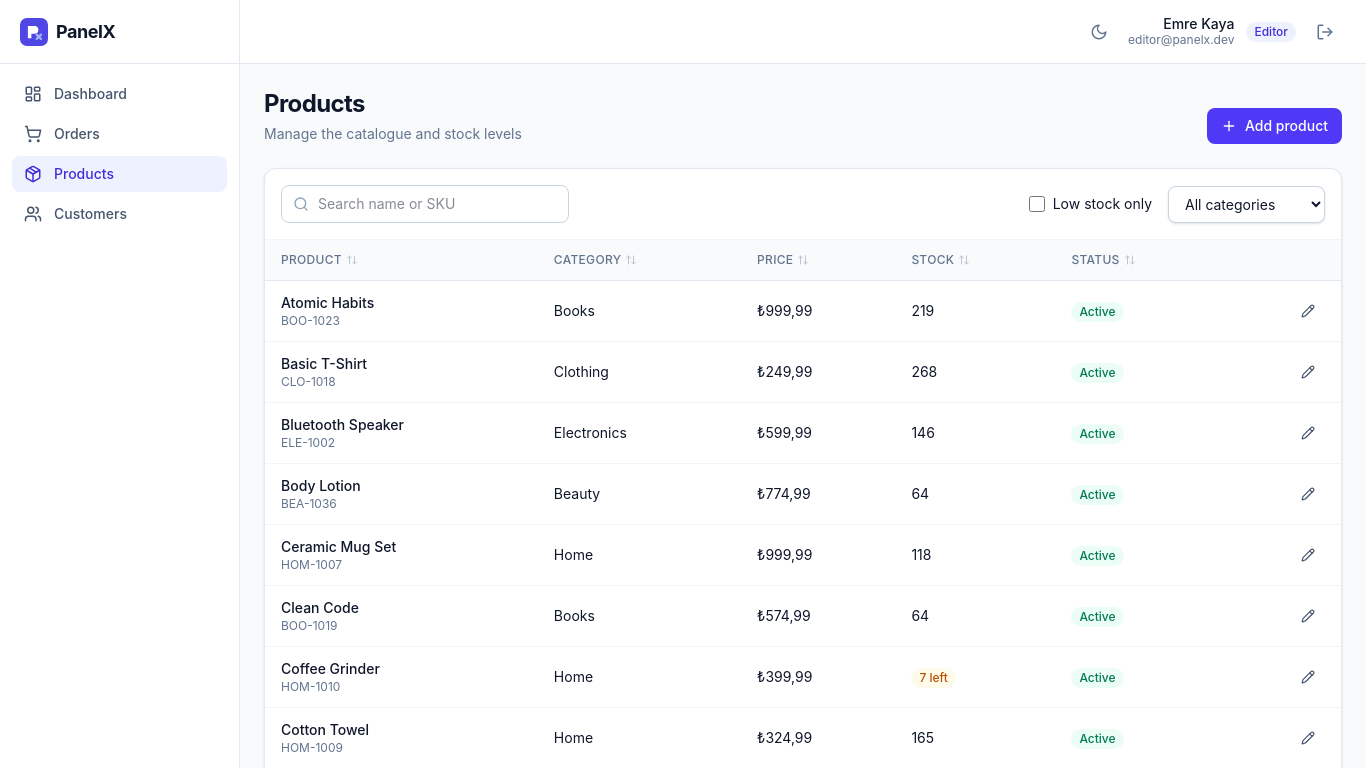
Scenario: products › validates the form and creates a product
The image size is (1366, 768).
Later steps or results of the test are not shown.
Click the button "Add product" at (1274, 126), box [1207,108,1342,144]
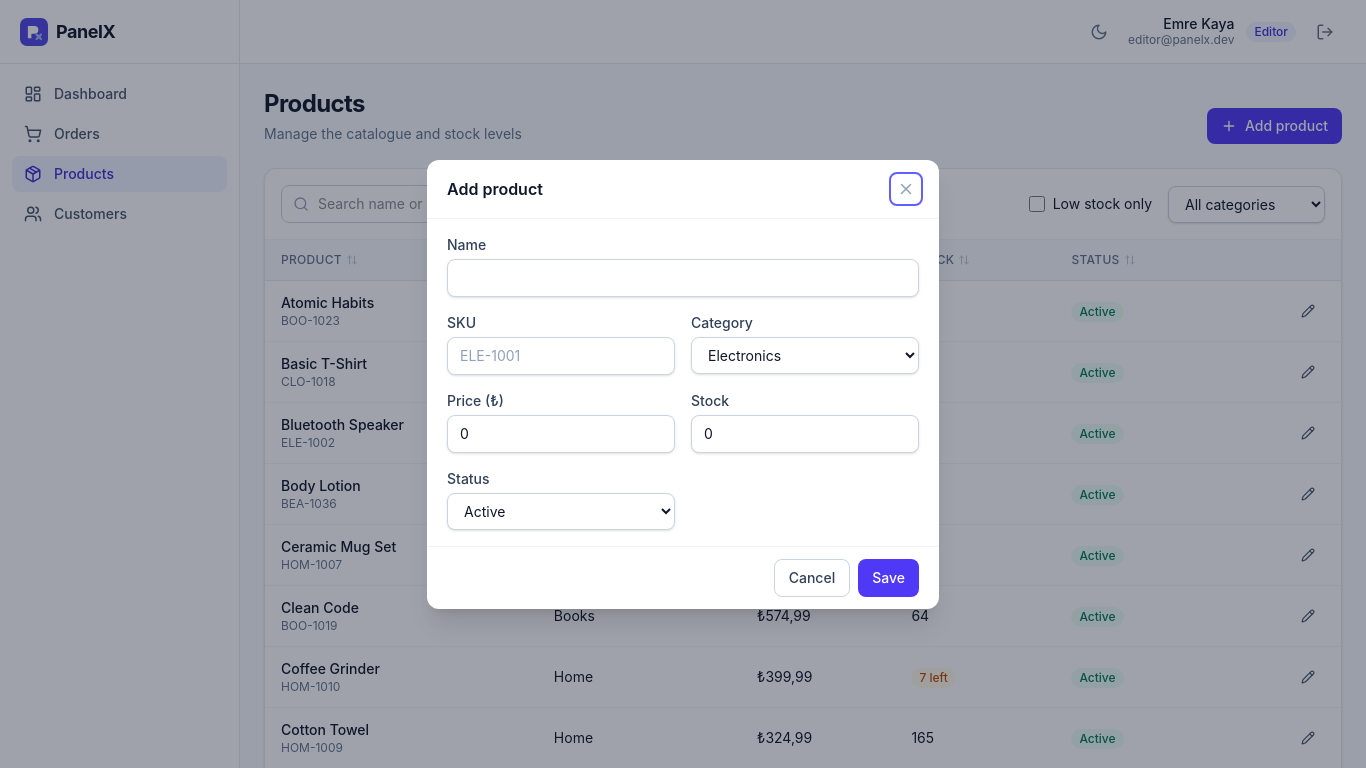
Click the button "Save" at (889, 578), box [858,558,919,596]
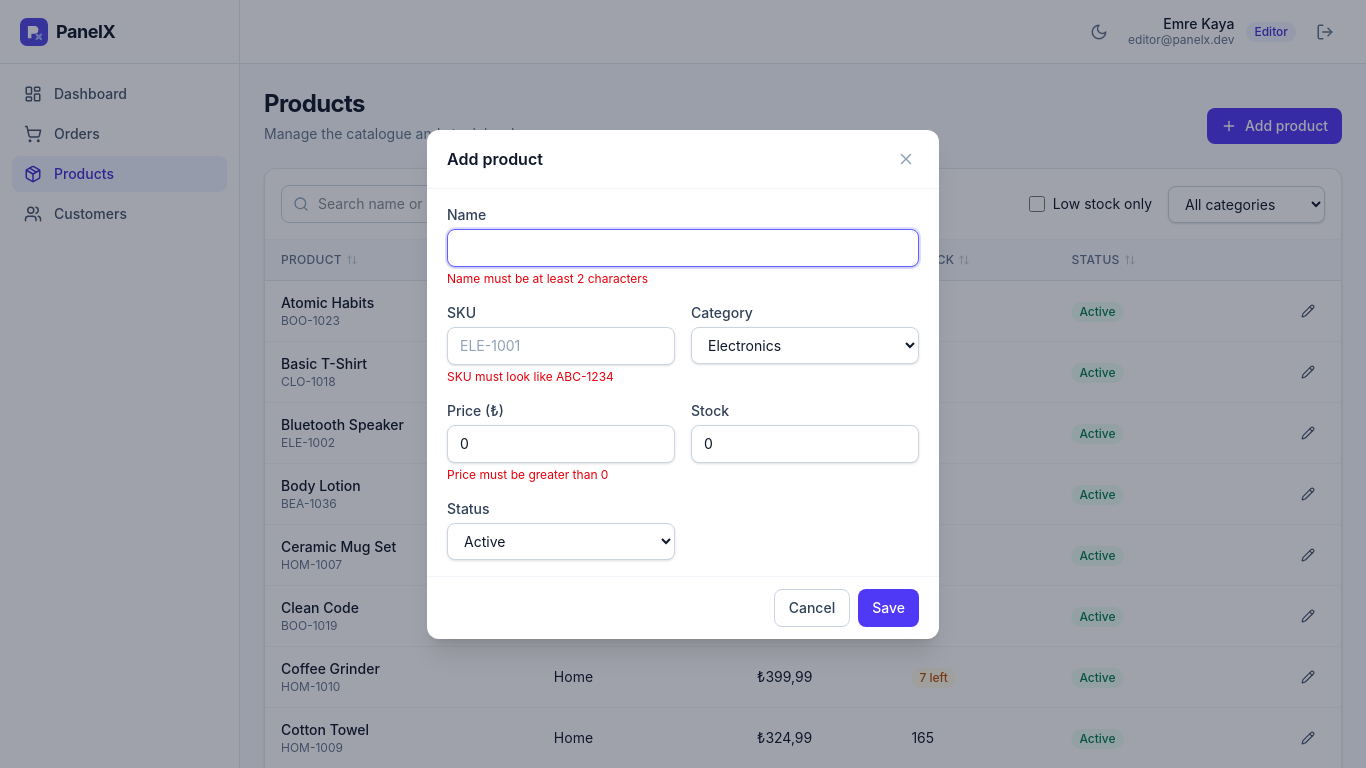
Expected: the text "Name must be at least 2 characters" is shown, [447,270,648,286]
Expected: the text "SKU must look like ABC-1234" is shown, [447,368,614,384]
